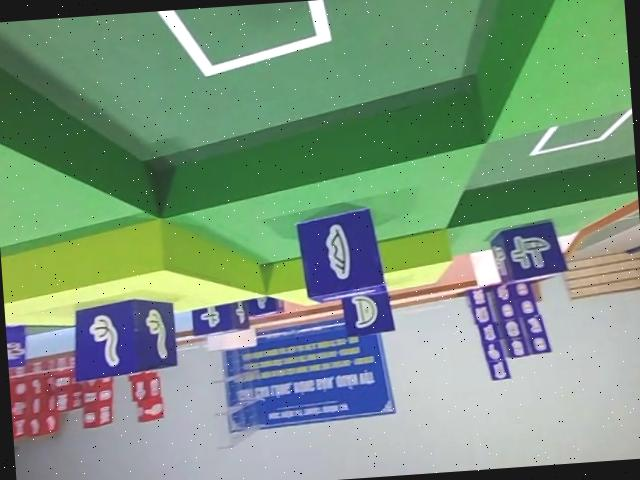R2 Real Blue: (67, 291, 177, 380), (296, 203, 389, 304), (487, 217, 567, 285), (338, 283, 394, 337), (190, 297, 251, 337)
